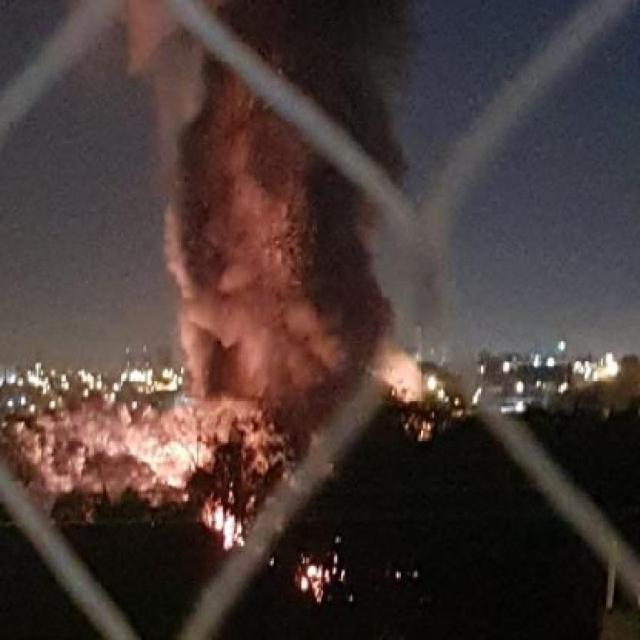Fire: (123, 432, 209, 494), (204, 499, 242, 550), (296, 562, 330, 600)
